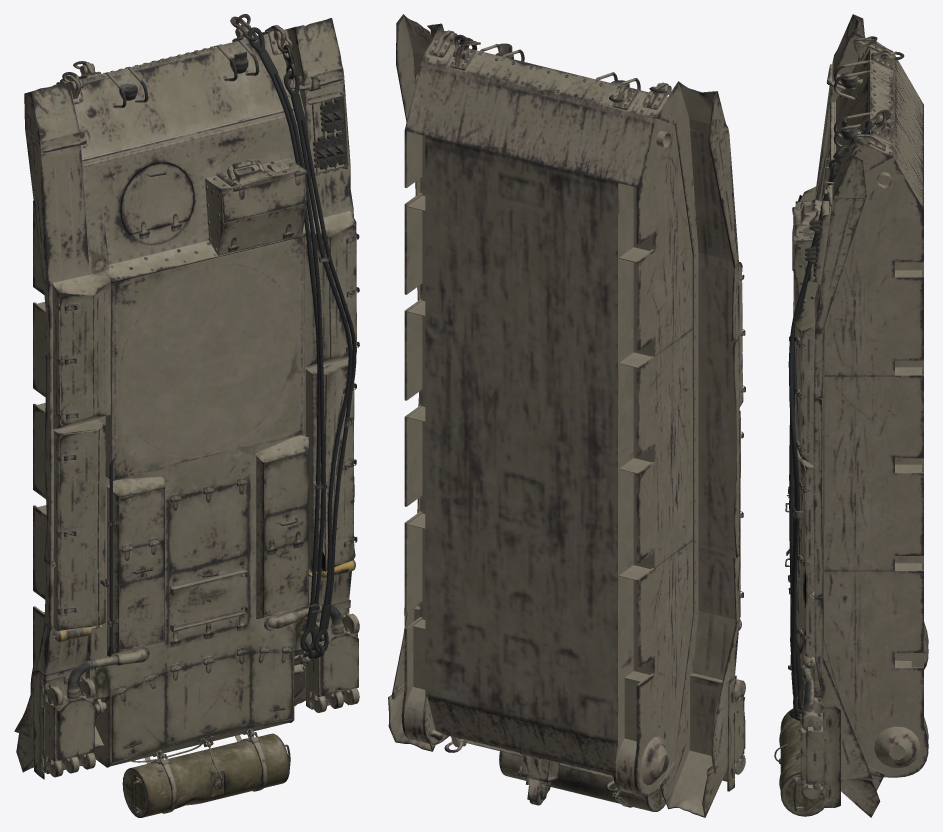
File: Hull.glb
The picture shows the model from 3 angles, left to right: view 1: azimuth 30°, elevation 25°; view 2: azimuth 150°, elevation 25°; view 3: azimuth 270°, elevation 25°; orthographic projection. The views are drawn at different scales.
Parts seen in each view (by area): view 1: set_0_group_0; view 2: set_0_group_0; view 3: set_0_group_0.
Boxes of the visible parts, box(x1,y1,x2,y2) form: set_0_group_0: box(14, 14, 359, 817); set_0_group_0: box(388, 14, 745, 817); set_0_group_0: box(774, 14, 928, 817).
Size of the model in its own units: 2.79 by 6.27 by 1.24.
Materials: 1 (1 with a texture image).
